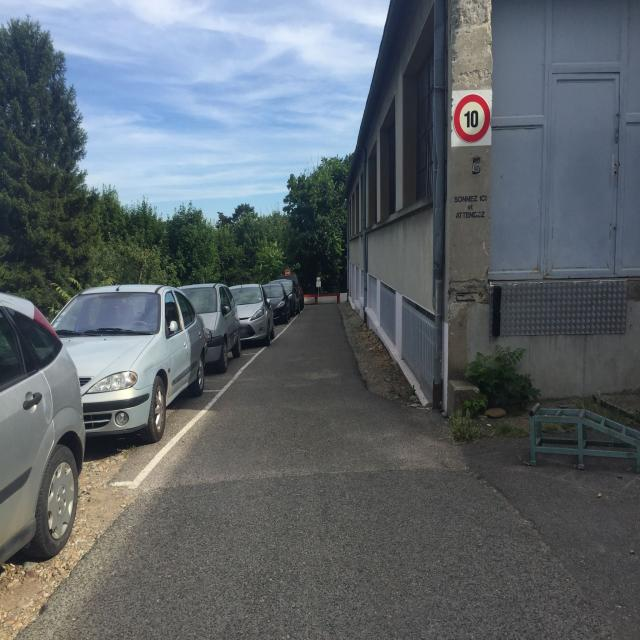car: (0, 269, 86, 640), (50, 284, 206, 444), (179, 282, 242, 373), (230, 283, 276, 347), (262, 284, 291, 324), (270, 277, 299, 316)
